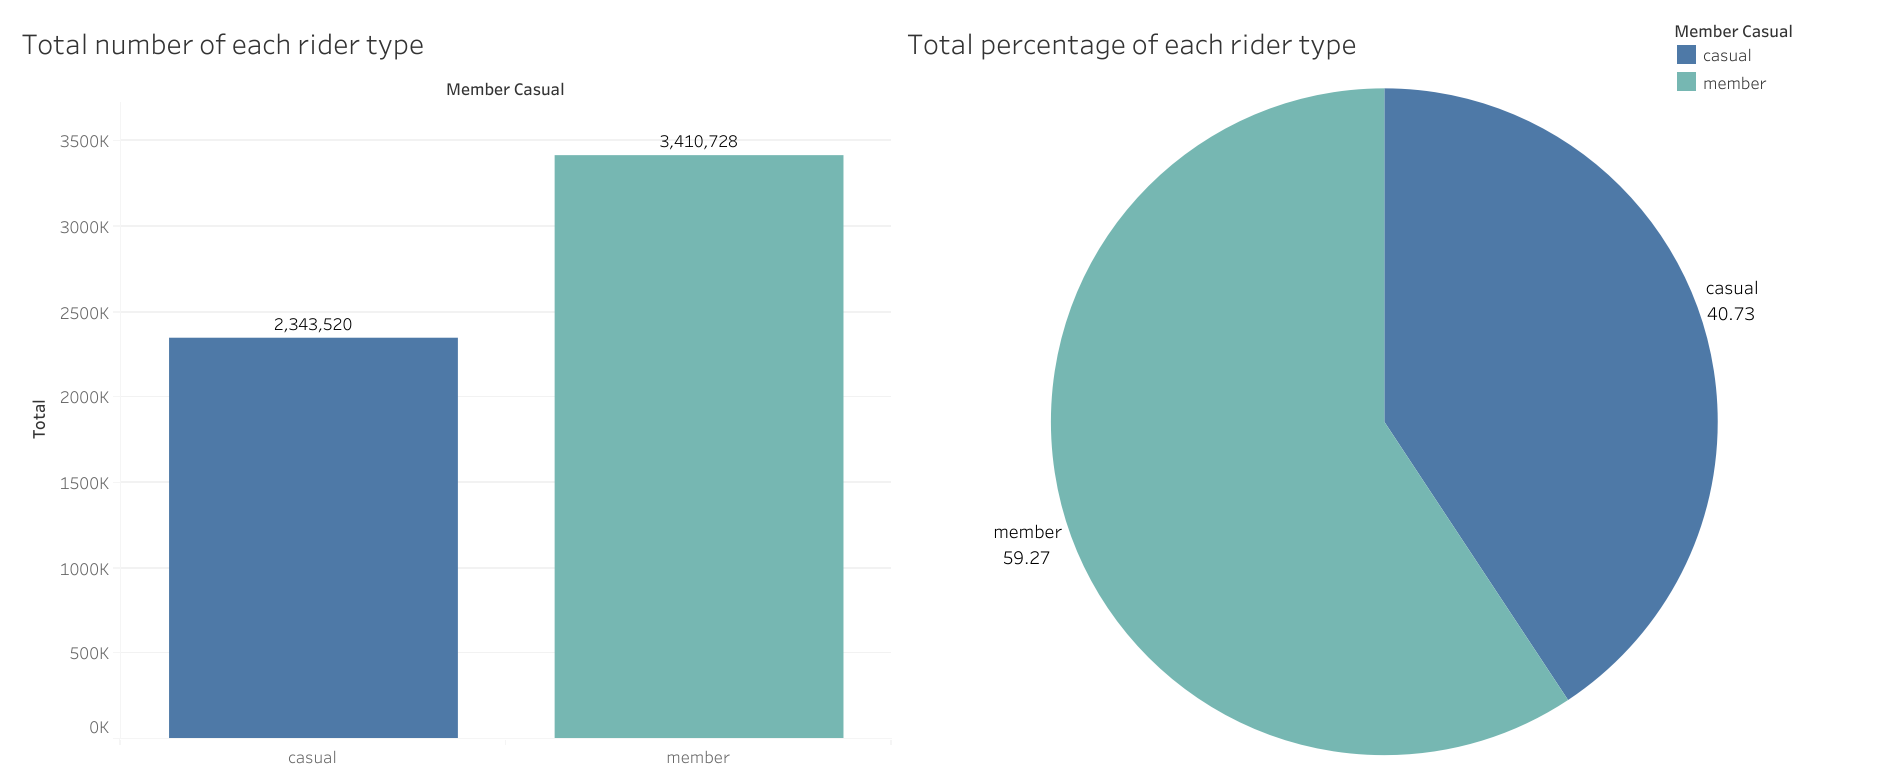

What the dashboard file says about the page in this screenshot:
{"tool":"tableau","page":{"name":"Dashboard 1","canvas":[1000,1000],"units":"permille","ordinal":0},"visuals":[{"type":"worksheet","title":"Sheet 1","mark":"Automatic","rows":["total"],"cols":["member_casual"],"box":[4.8,9.3,495.2,981.4]},{"type":"worksheet","title":"Sheet 2","mark":"Automatic","rows":["total"],"cols":["member_casual"],"box":[500,9.3,495.2,981.4]}]}

Visuals, with their boxes on the dashboard's canvas, which has no fixed pixel size, in thousandths of its width and height (x1, y1, x2, y2). These are canvas units, not pixel positions in the 1882x783 screenshot, which may show the page scaled, cropped or inside an application window:
"Sheet 1" worksheet: l=5, t=9, r=500, b=991
"Sheet 2" worksheet: l=500, t=9, r=995, b=991
